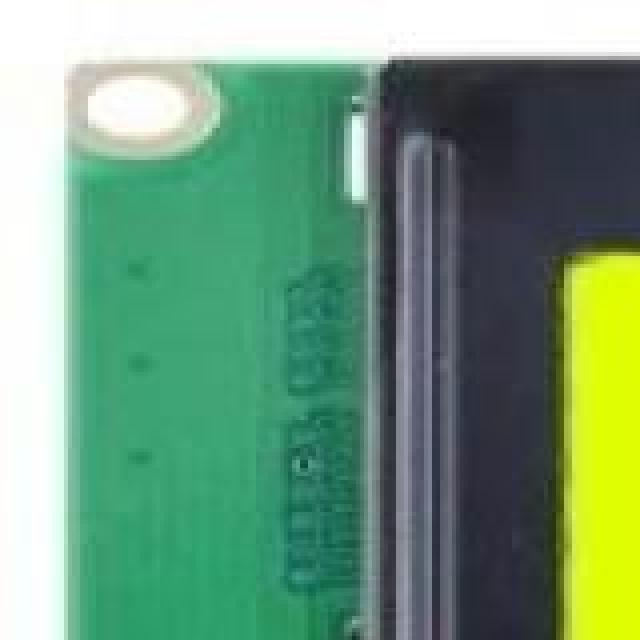display: (352, 44, 640, 640)
